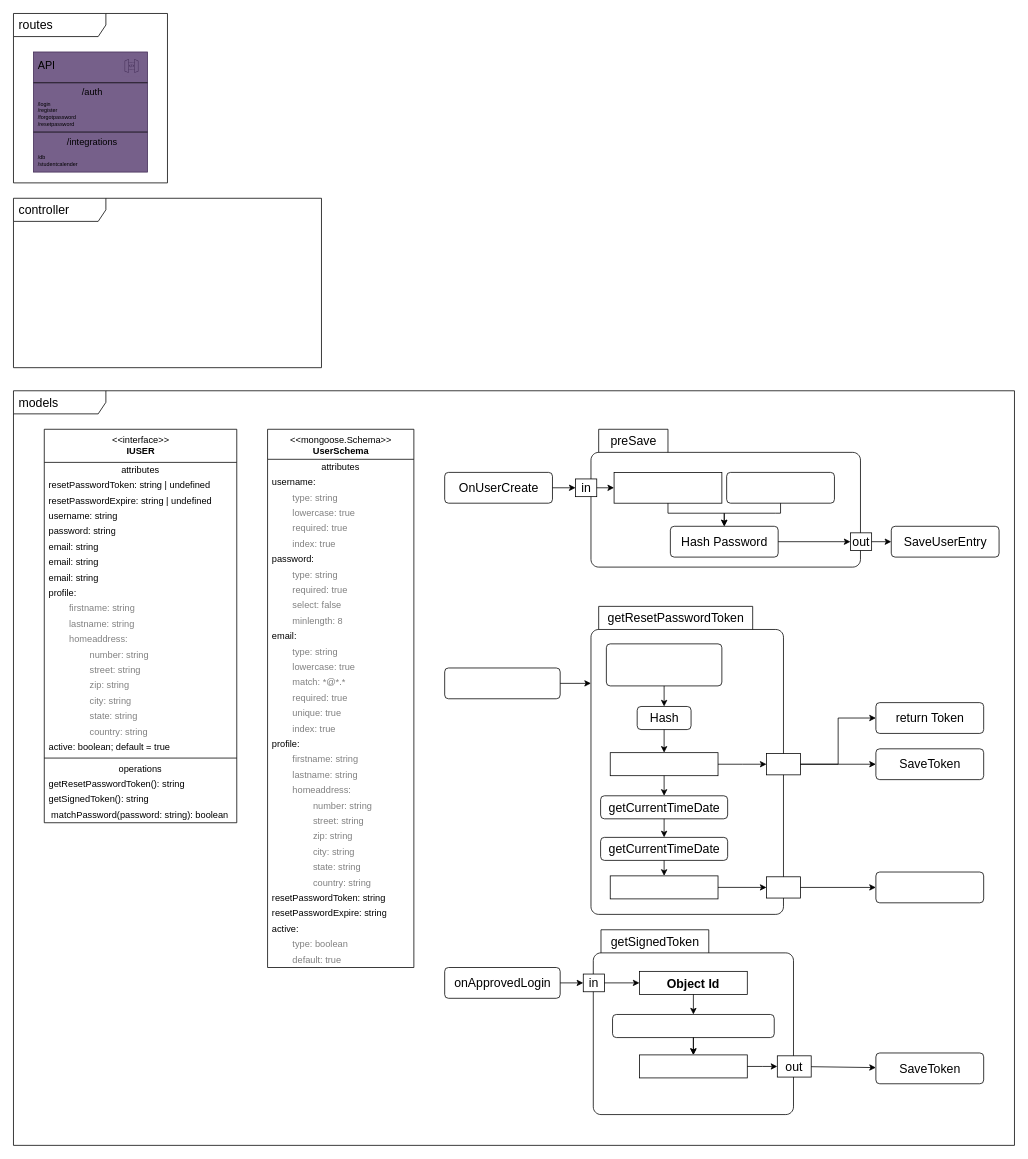
Some shapes in this 1028 by 1159 pixel diagram are drawn without their labels. The shapes that lost their labels are listed below. From the top down, each one's centre as x and y in pixels, then its label:
At point 667,487: "password".
At point 780,487: "Generate Salt".
At point 502,683: "onPasswordReset".
At point 664,664: "Generate Random 20 Bytes".
At point 663,764: "resetToken".
At point 783,764: "out1".
At point 663,887: "TokenExpire".
At point 783,887: "out2".
At point 929,887: "SaveExpire".
At point 693,1026: "Generate Json Web Token".
At point 693,1066: "jwt".
